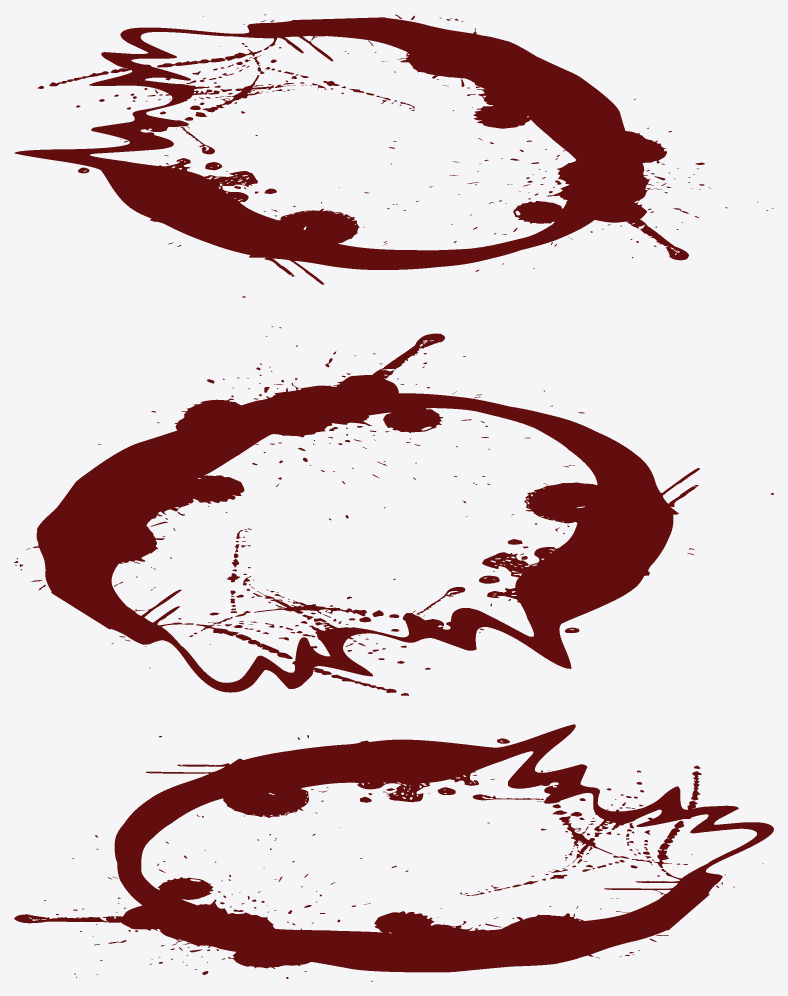
3 views of the same model, one above another, from view 1: azimuth 30°, elevation 25°; view 2: azimuth 150°, elevation 25°; view 3: azimuth 270°, elevation 25° (orthographic). The views are drawn at different scales.
Parts seen in each view (by area): view 1: Text; view 2: Text; view 3: Text.
Boxes of the visible parts, x1,y1,x2,y2 form: Text: (14, 14, 773, 297); Text: (14, 326, 773, 695); Text: (14, 724, 773, 981).
Bounding box in the file's own units: 11.12 × 2.26e-06 × 13.87.
